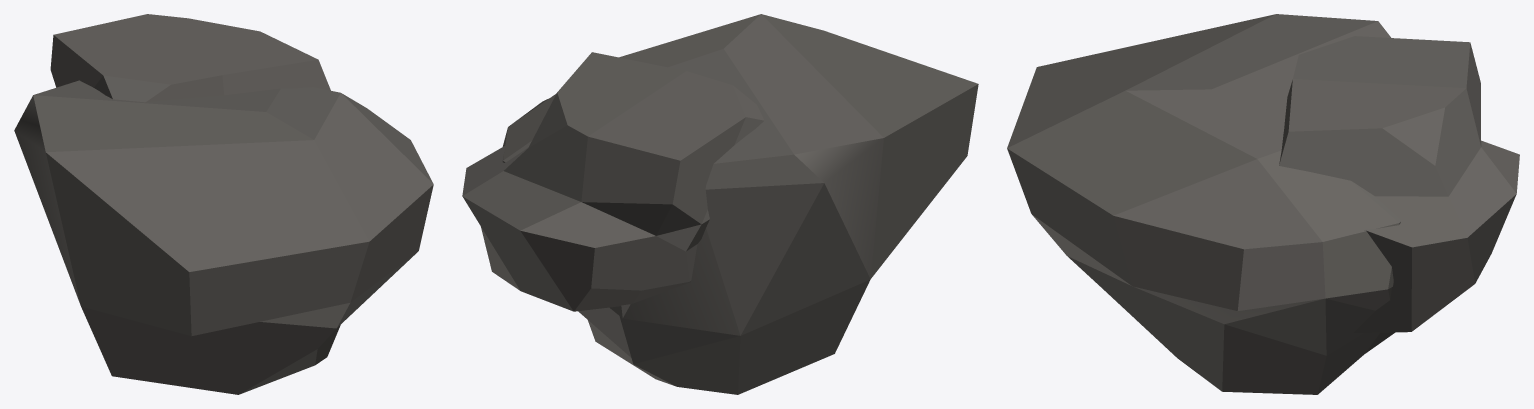
File: env_rock_chunk2.gltf
3 renders of one model, left to right at view 1: azimuth 30°, elevation 25°; view 2: azimuth 150°, elevation 25°; view 3: azimuth 270°, elevation 25°, orthographic. The views are drawn at different scales.
Visible parts, largest first — view 1: env_rock_chunk2; view 2: env_rock_chunk2; view 3: env_rock_chunk2.
Part boxes in pixels (x1,y1,x2,y2): env_rock_chunk2: [14, 14, 433, 394]; env_rock_chunk2: [462, 14, 978, 394]; env_rock_chunk2: [1007, 14, 1519, 394].
Bounding box in the file's own units: 2.73 × 1.97 × 3.29.
Materials: 1 (1 with a texture image).
